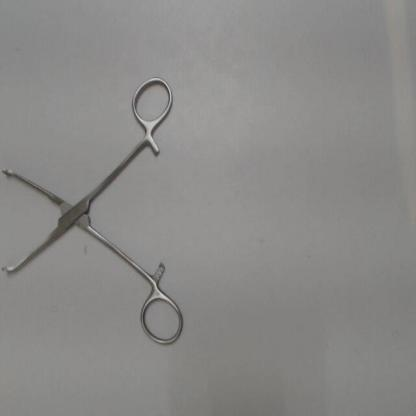Allis Tissue Forceps: (0, 69, 190, 352)
